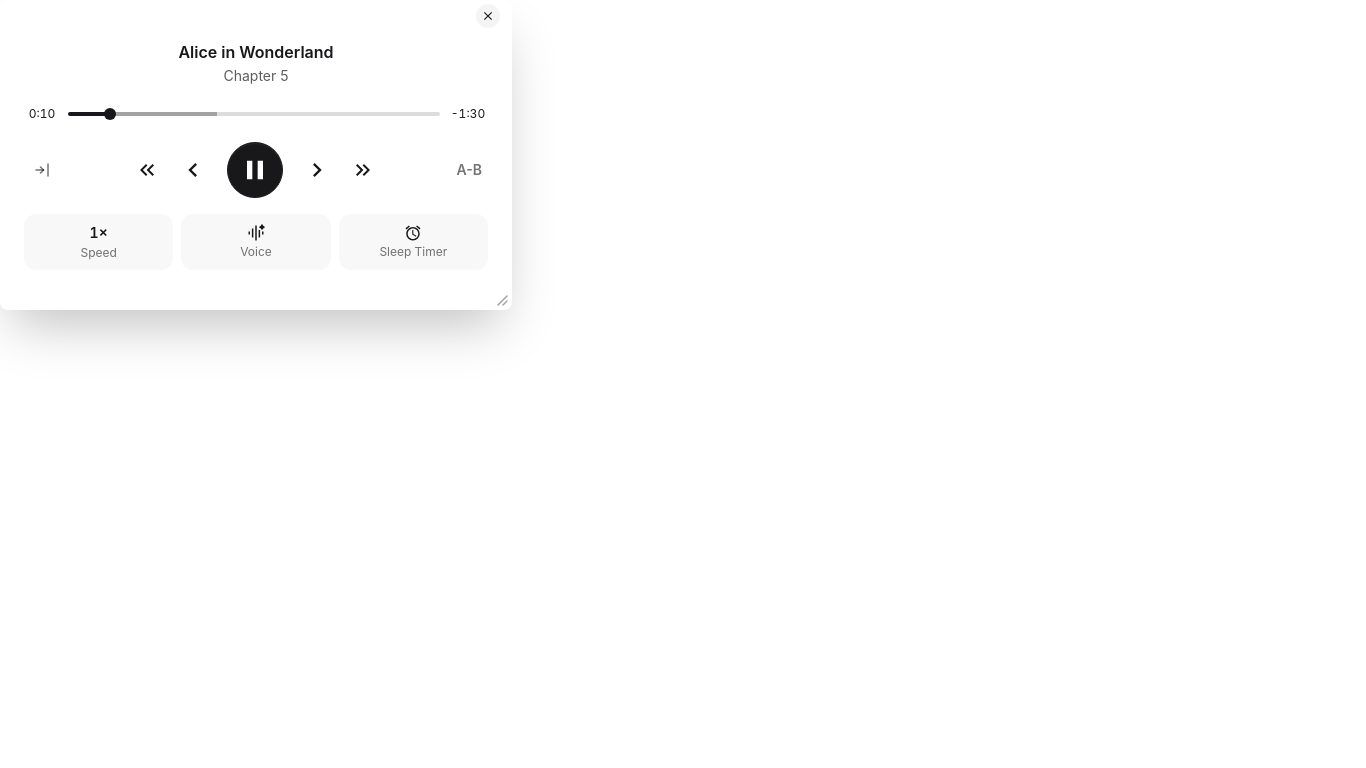
TTSPlayerSheet › badges sit at the row end; a multilingual voice is badged, a locked one greyed
Click the button labelled "Voice". click: {"x": 256, "y": 242}
box: x1=181 y1=214 x2=331 y2=270
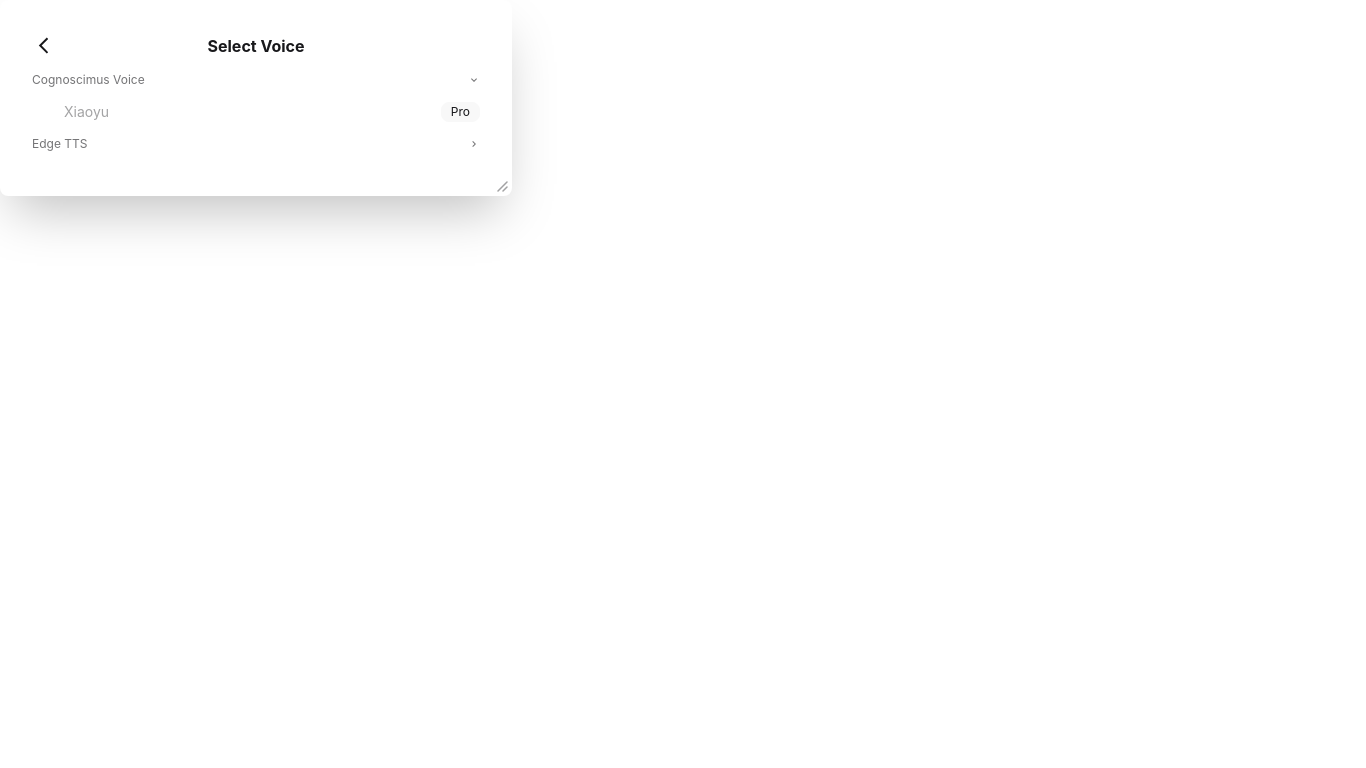
Click the button "Edge TTS". click: {"x": 60, "y": 144}
box: x1=24 y1=132 x2=488 y2=156
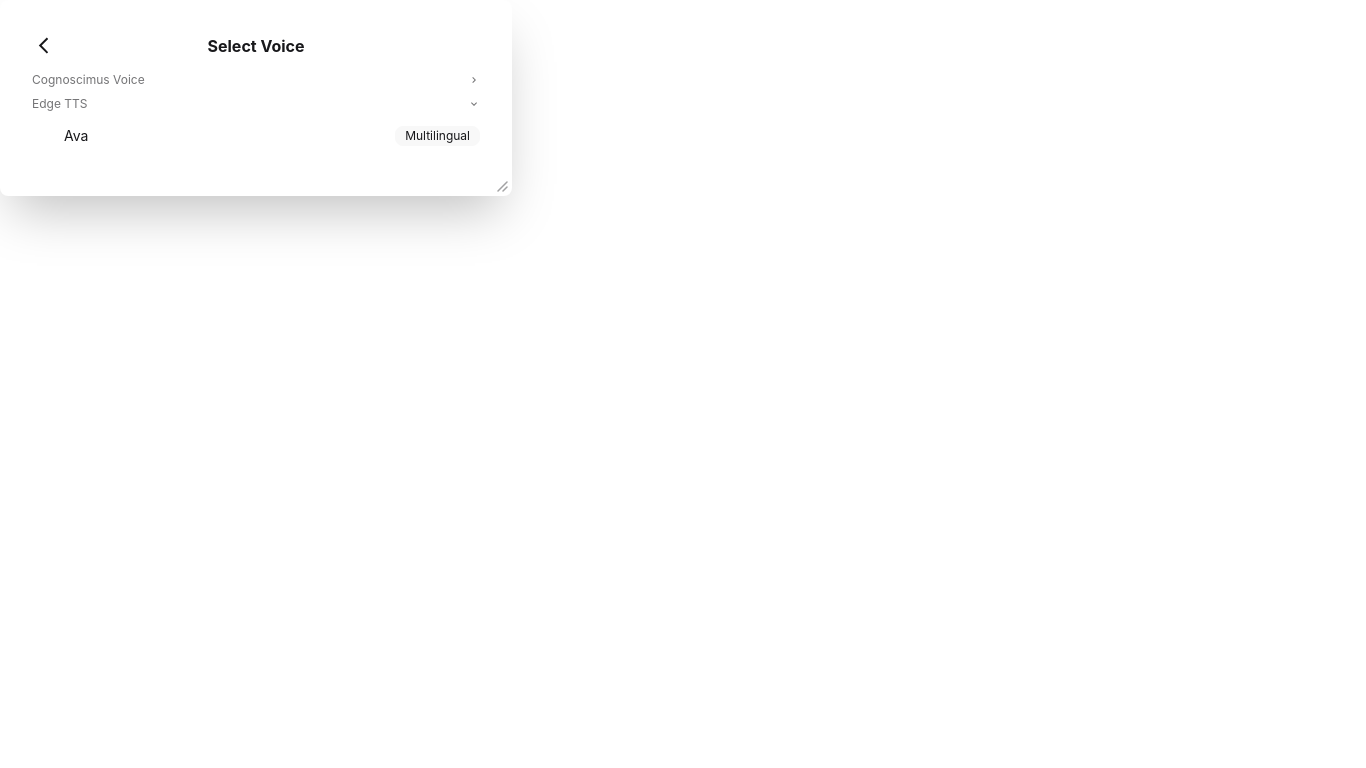
Now the button "Ava Multilingual" is shown, box x1=24 y1=116 x2=488 y2=156
